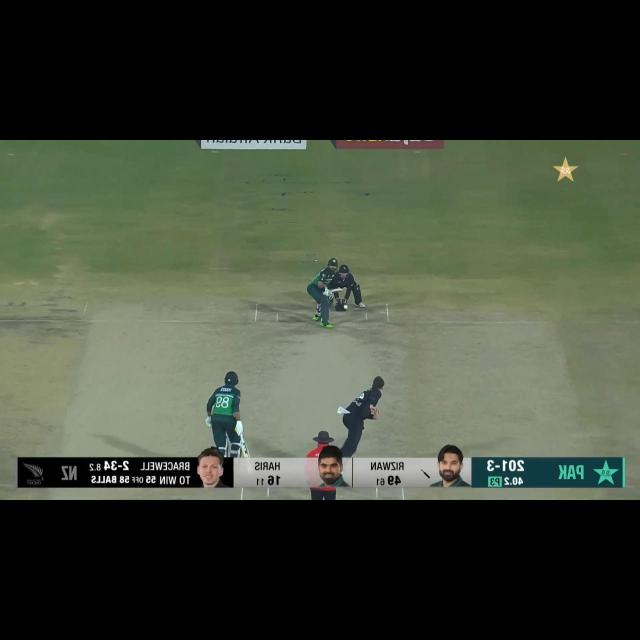bat: (237, 442, 252, 457), (327, 288, 344, 294)
toe: (338, 286, 344, 292)
